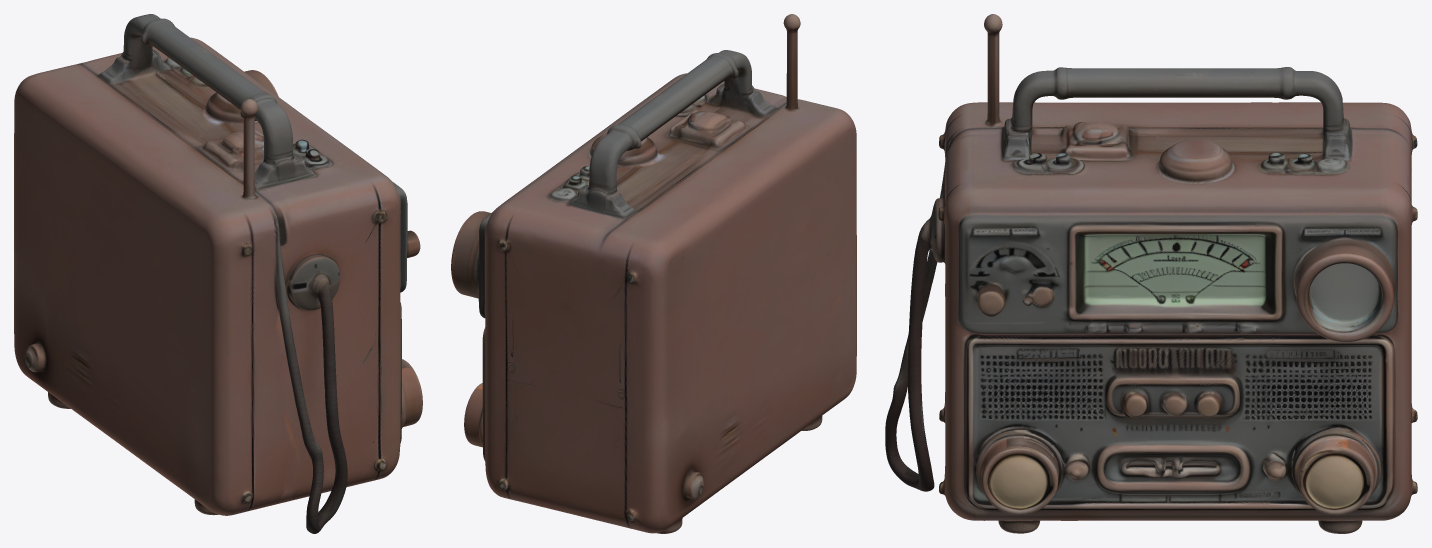
Rendered from ai_stalker_retro_radio.glb.
The picture shows the model from 3 angles, left to right: view 1: azimuth 30°, elevation 25°; view 2: azimuth 150°, elevation 25°; view 3: azimuth 270°, elevation 25°; orthographic projection. The views are drawn at different scales.
Visible parts, largest first — view 1: tripo_node_5eda9bba-f8e4-4d60-be0d-9a27558185b4_0; view 2: tripo_node_5eda9bba-f8e4-4d60-be0d-9a27558185b4_0; view 3: tripo_node_5eda9bba-f8e4-4d60-be0d-9a27558185b4_0.
Boxes of the visible parts, box(x1,y1,x2,y2) form: tripo_node_5eda9bba-f8e4-4d60-be0d-9a27558185b4_0: box(14, 14, 422, 533); tripo_node_5eda9bba-f8e4-4d60-be0d-9a27558185b4_0: box(451, 14, 856, 533); tripo_node_5eda9bba-f8e4-4d60-be0d-9a27558185b4_0: box(885, 14, 1417, 533).
Size of the model in its own units: 0.5395 by 0.8922 by 0.9452.
1 material, 1 textured.
